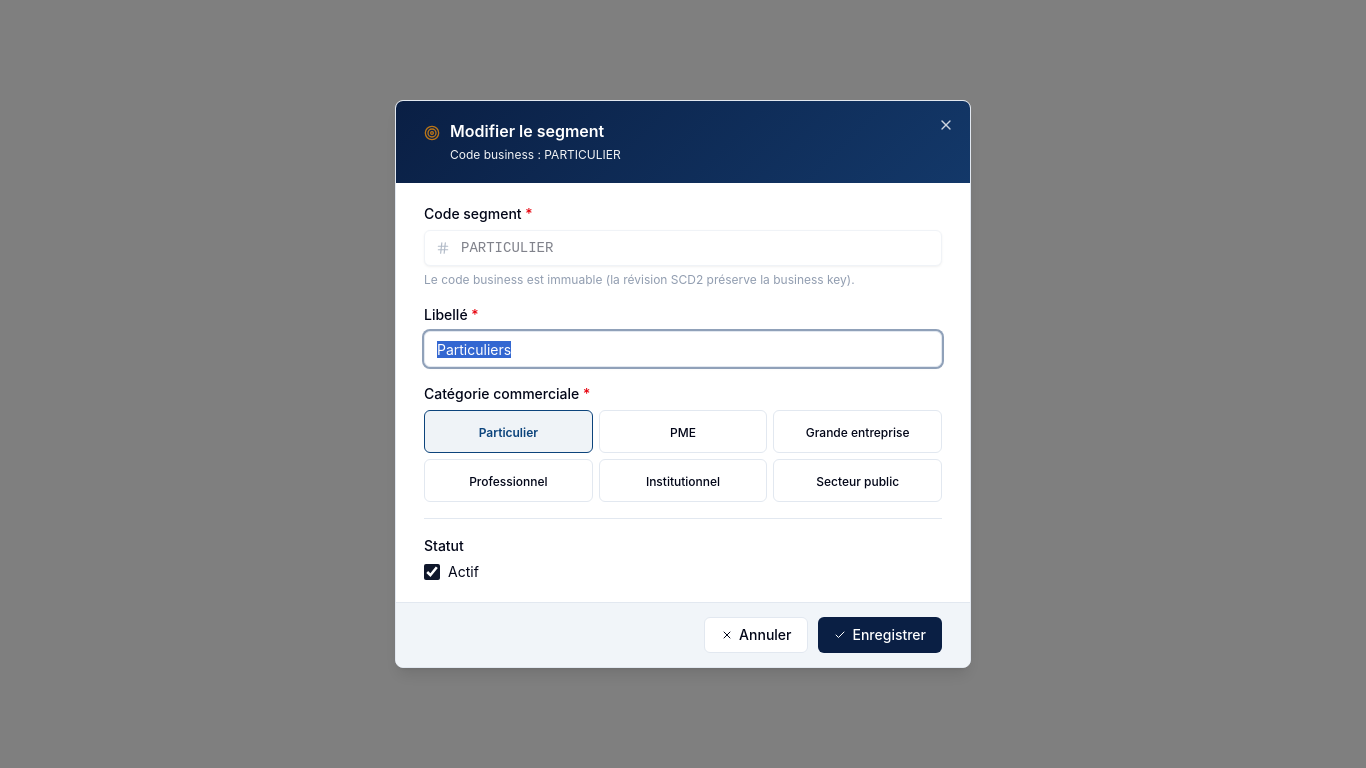
Test: SegmentFormDrawer › mode edit : bandeau bleu intra-jour si version créée aujourd'hui
The width and height of the screenshot is (1366, 768).
Replace the text in the field labelled "Libellé *" with "Particuliers v2" at (683, 349), box [424,331,942,367]
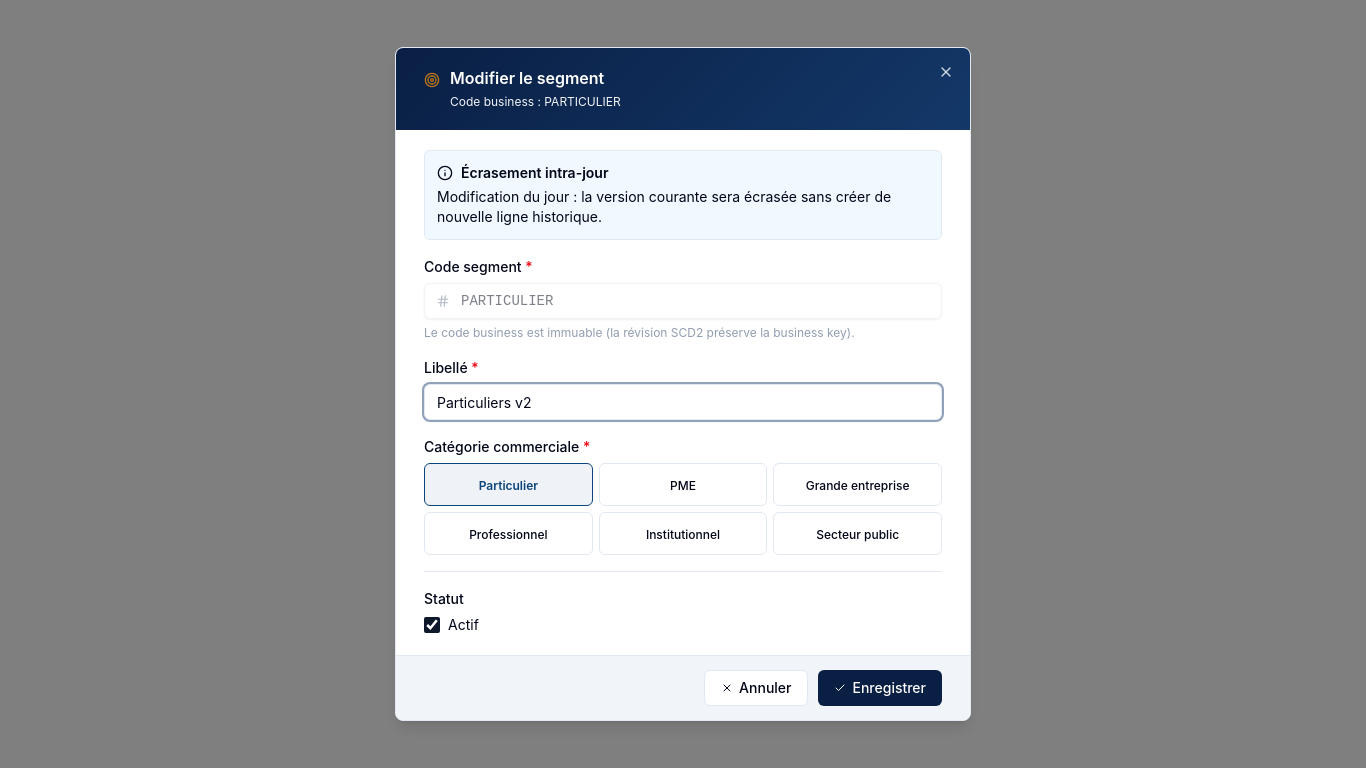
Expected: the text "Écrasement intra-jour" is shown, [437,164,608,181]
